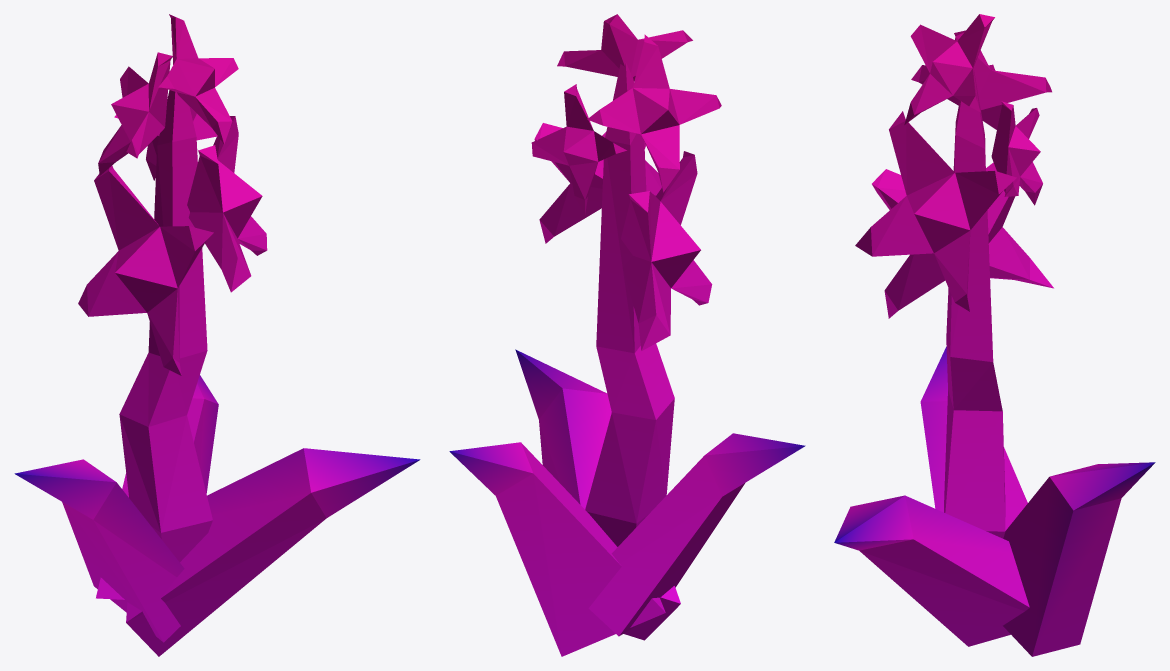
File: synty-plant-02.gltf
3 renders of one model, left to right at view 1: azimuth 30°, elevation 25°; view 2: azimuth 150°, elevation 25°; view 3: azimuth 270°, elevation 25°, orthographic. The views are drawn at different scales.
Visible parts, largest first — view 1: SM_Plant_02; view 2: SM_Plant_02; view 3: SM_Plant_02.
Part boxes in pixels (x1=…): SM_Plant_02: x1=14, y1=14, x2=420, y2=656; SM_Plant_02: x1=449, y1=14, x2=805, y2=656; SM_Plant_02: x1=834, y1=14, x2=1155, y2=656.
Bounding box in the file's own units: 0.5243 × 0.9024 × 0.4086.
